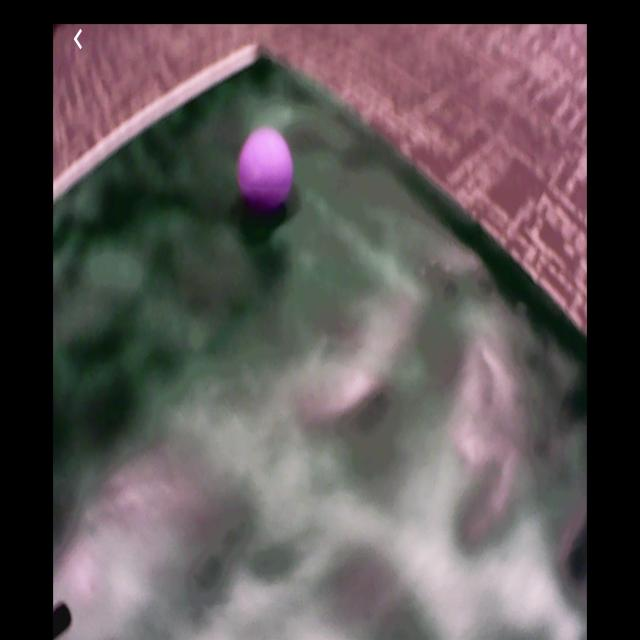ball: (240, 129, 295, 210)
